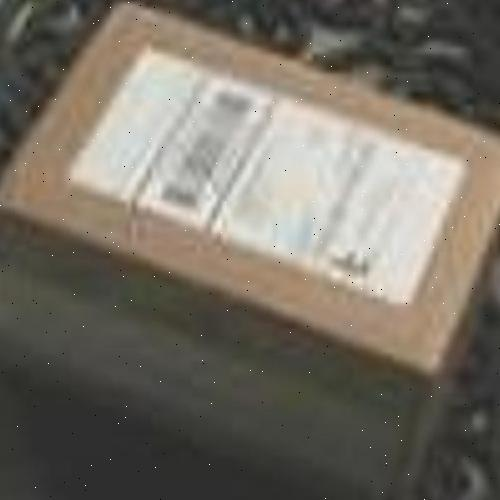Other: (0, 6, 500, 471)
